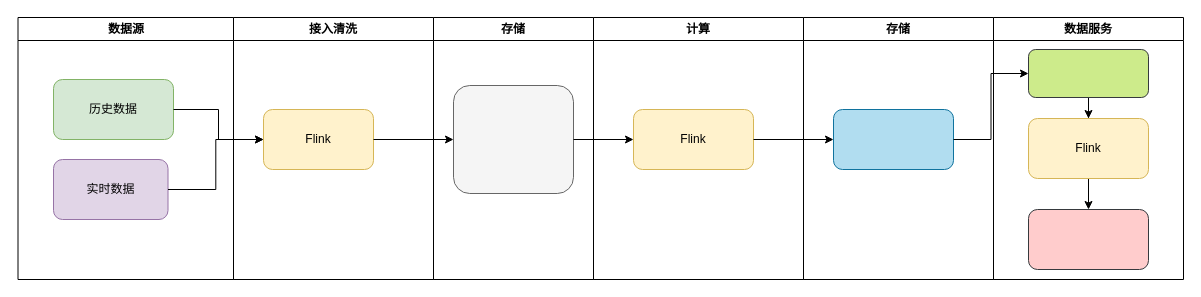
Image size: 1201x297. Some labels were removed from this diagram. Here are the shapes that lost their labels. From the top down, the centre of each, then its label:
point (1088, 73): Hive
point (513, 139): Kafka
point (893, 139): HBase
point (1088, 239): Phoenix
